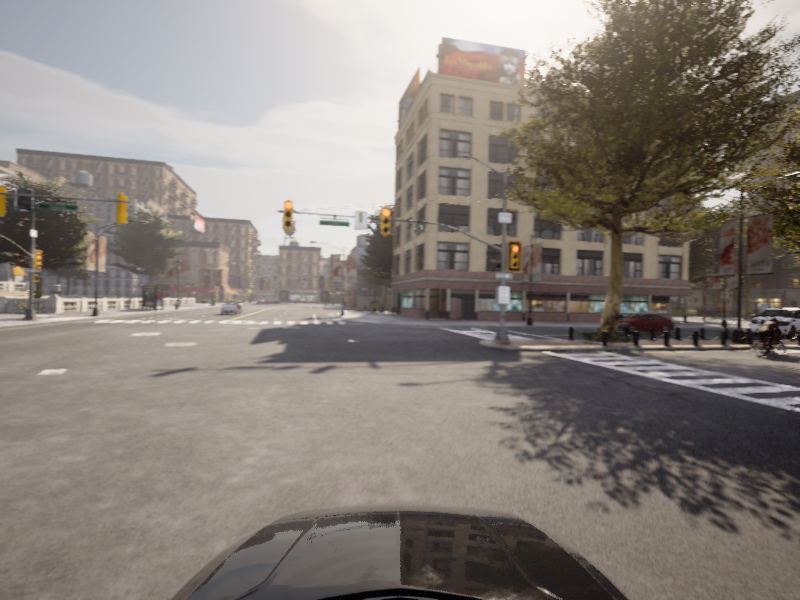vehicle: (746, 316, 794, 358), (745, 307, 799, 339), (603, 312, 679, 334), (218, 300, 243, 315)
